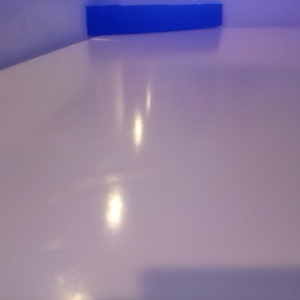zone: (86, 3, 223, 37)
